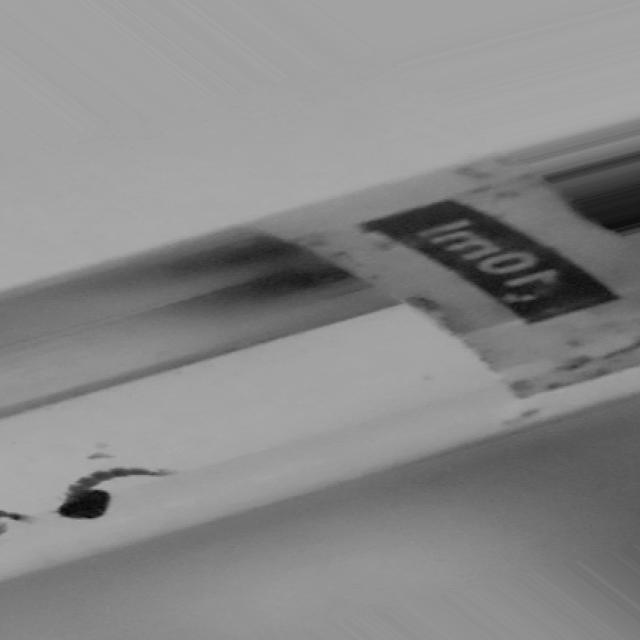larvas: (65, 465, 166, 517)
